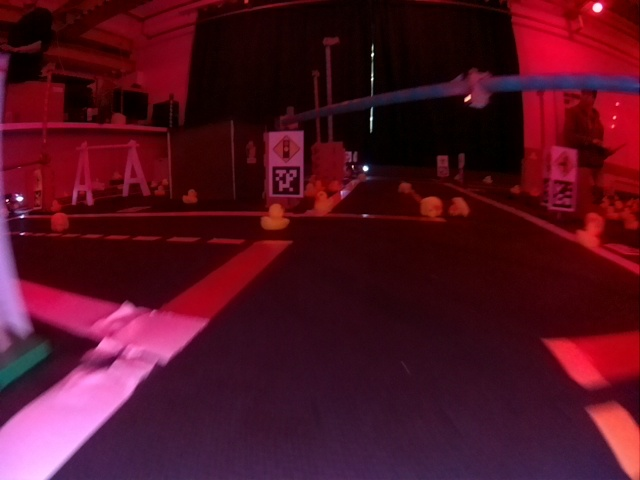Duckie: (262, 206, 288, 229), (449, 198, 469, 216), (423, 197, 440, 215), (187, 191, 198, 202)
QR code: (549, 178, 574, 211), (271, 167, 297, 197)
Signal sign: (268, 132, 303, 164)
